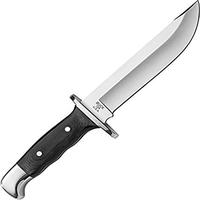knife: (4, 2, 199, 195)
